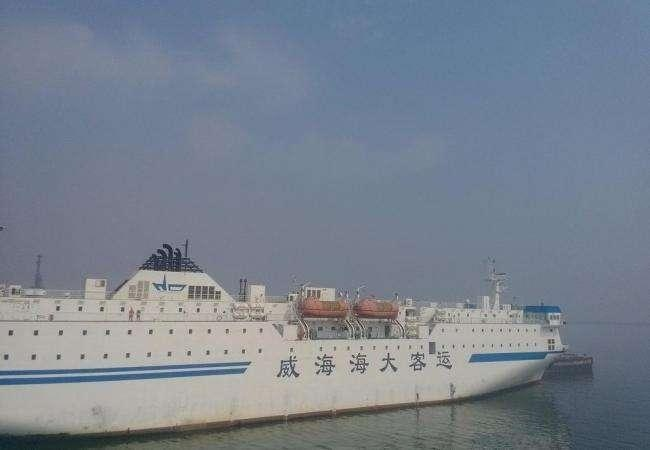youlun: (3, 235, 573, 439)
